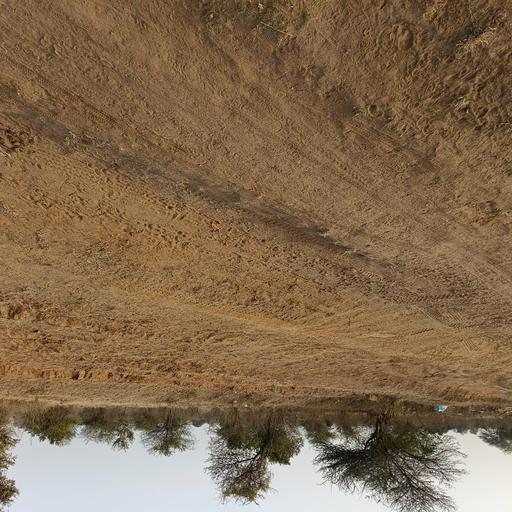vehicle_track: (0, 0, 512, 314)
